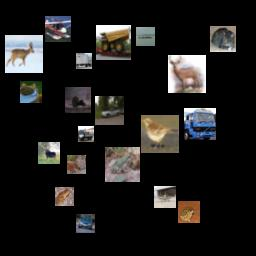airplane: (65, 87, 91, 113), (45, 16, 71, 42), (154, 186, 176, 208)
automobile: (95, 96, 124, 125), (76, 214, 95, 233)
bird: (141, 115, 179, 153)
cat: (210, 26, 236, 52), (20, 81, 42, 103)
deer: (5, 35, 43, 73), (168, 55, 206, 93), (38, 142, 60, 164), (67, 155, 86, 174)
frog: (105, 147, 140, 182), (178, 201, 200, 223), (55, 187, 74, 206)
ship: (136, 27, 155, 46)
truck: (96, 25, 131, 60), (184, 108, 216, 140), (76, 53, 92, 69), (78, 126, 94, 142)
